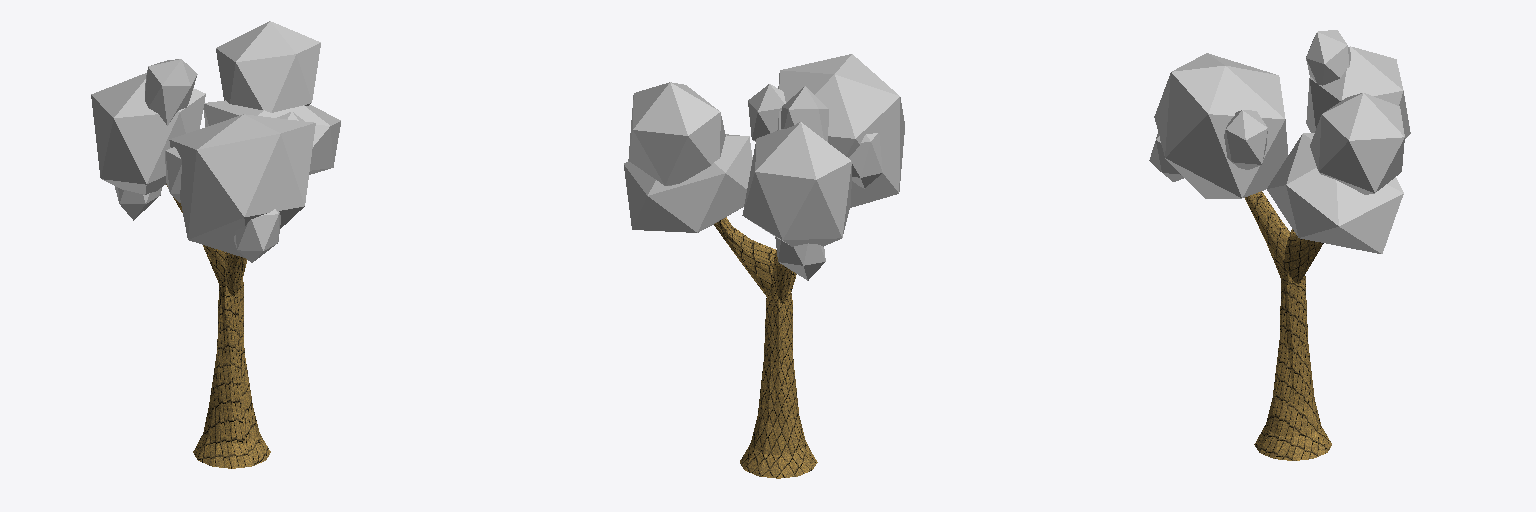
The picture shows the model from 3 angles: view 1: azimuth 30°, elevation 25°; view 2: azimuth 150°, elevation 25°; view 3: azimuth 270°, elevation 25°; orthographic projection.
Parts seen in each view (by area): view 1: Icosphere.005, Cylinder.006; view 2: Icosphere.005, Cylinder.006; view 3: Icosphere.005, Cylinder.006.
Boxes of the visible parts, <box> form: Icosphere.005: <box>91,21,340,262</box>; Cylinder.006: <box>166,184,270,468</box>; Icosphere.005: <box>624,54,904,280</box>; Cylinder.006: <box>714,217,817,478</box>; Icosphere.005: <box>1149,30,1410,253</box>; Cylinder.006: <box>1245,191,1331,460</box>.
Size of the model in its own units: 2.01 by 3.29 by 1.98.
2 materials, 1 textured.